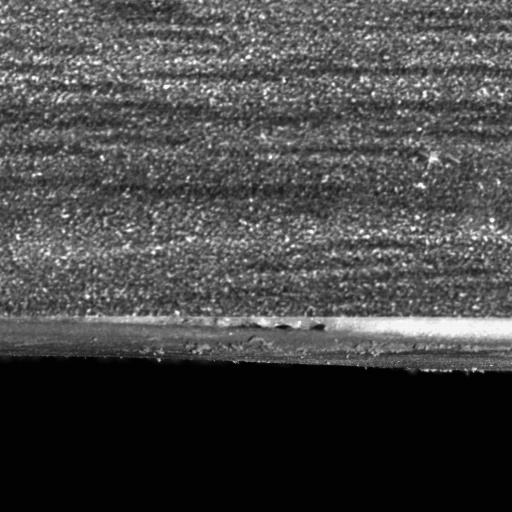kaijiao: (0, 310, 511, 376)
